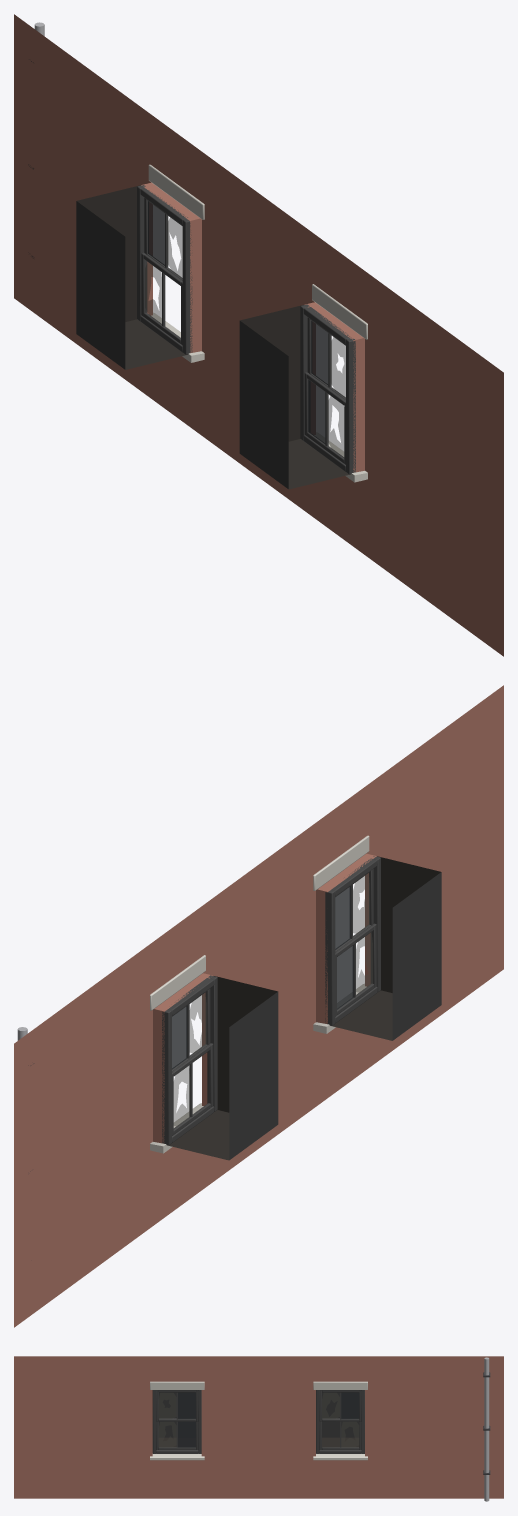
File: side_upper_10.glb
3 views of the same model, one above another, from view 1: azimuth 30°, elevation 25°; view 2: azimuth 150°, elevation 25°; view 3: azimuth 270°, elevation 25° (orthographic). The views are drawn at different scales.
Visible parts, largest first — view 1: side_upper_10; view 2: side_upper_10; view 3: side_upper_10.
Boxes of the visible parts, <box> form: side_upper_10: <box>14,14,503,656</box>; side_upper_10: <box>14,685,503,1327</box>; side_upper_10: <box>14,1356,503,1501</box>.
Size of the model in its own units: 1.06 by 3.2 by 10.
